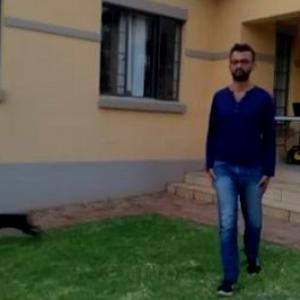follow: (202, 51, 273, 272)
